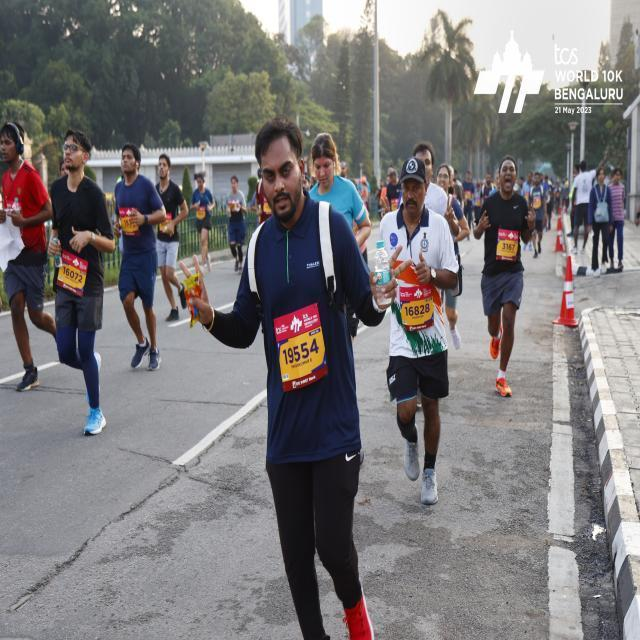dorsal: (268, 308, 322, 388), (396, 279, 434, 327), (59, 245, 85, 294)
